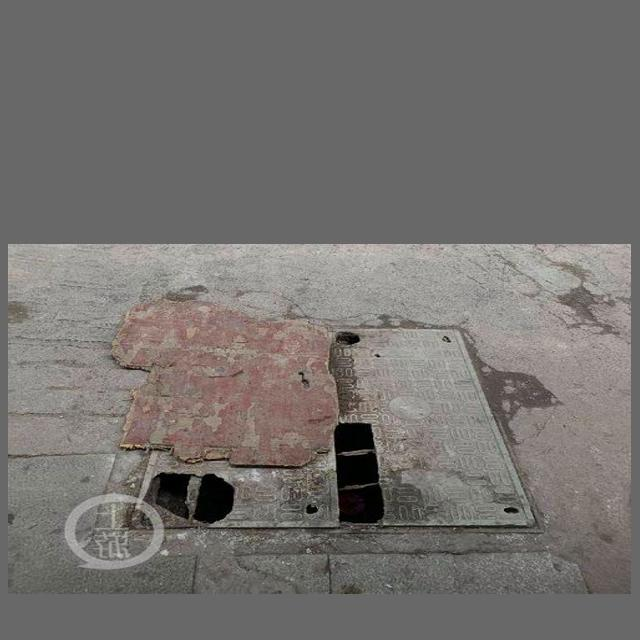broke: (103, 311, 546, 549)
